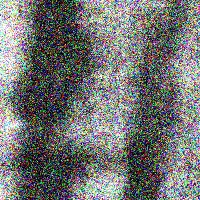patches: (123, 16, 185, 200), (16, 0, 95, 127), (9, 127, 91, 198)
